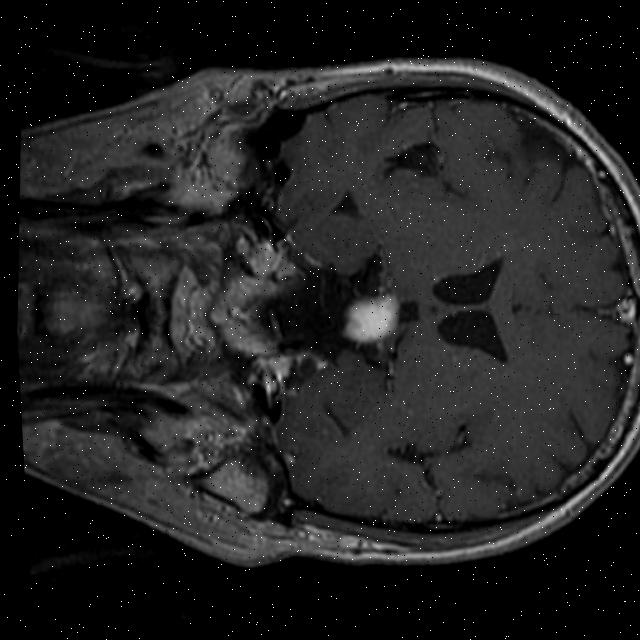Pituitary: (338, 290, 401, 345)
